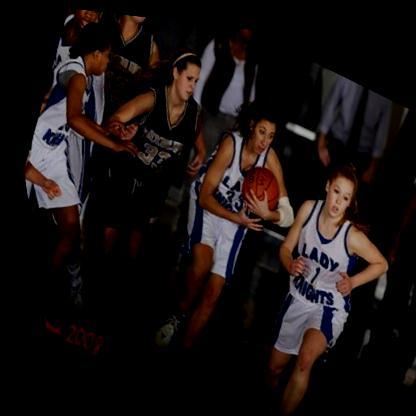basketball: (224, 150, 285, 215)
